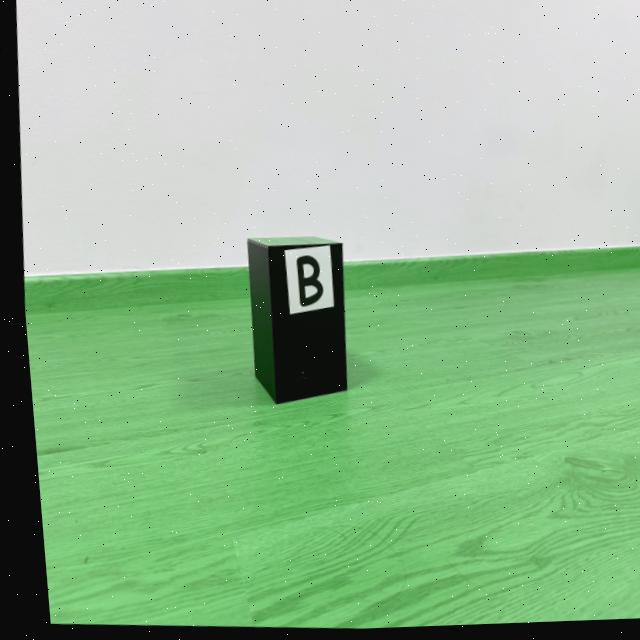B: (292, 258, 318, 310)
